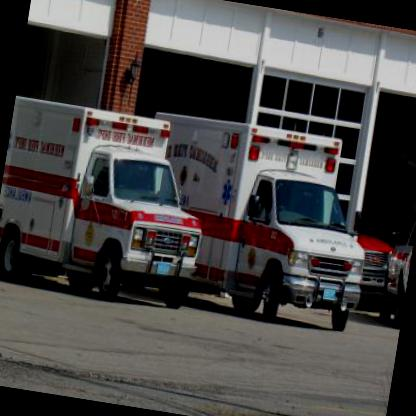truck: (126, 105, 383, 336), (0, 90, 222, 313), (371, 191, 415, 331)
